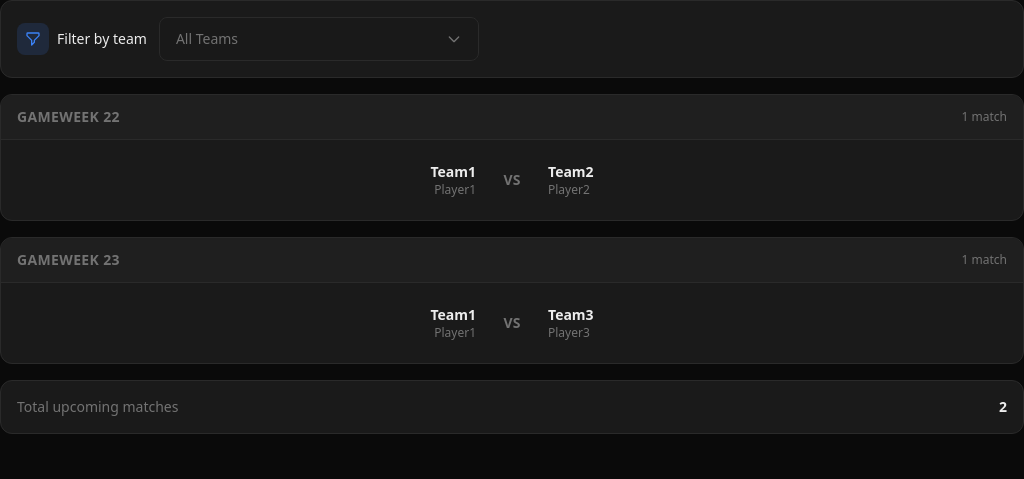
Test: UpcomingFixtures (expanded) › shows team-specific info in footer when filtered
Click the button with aria-label "Select team filter": (207, 38) [159,17,479,61]
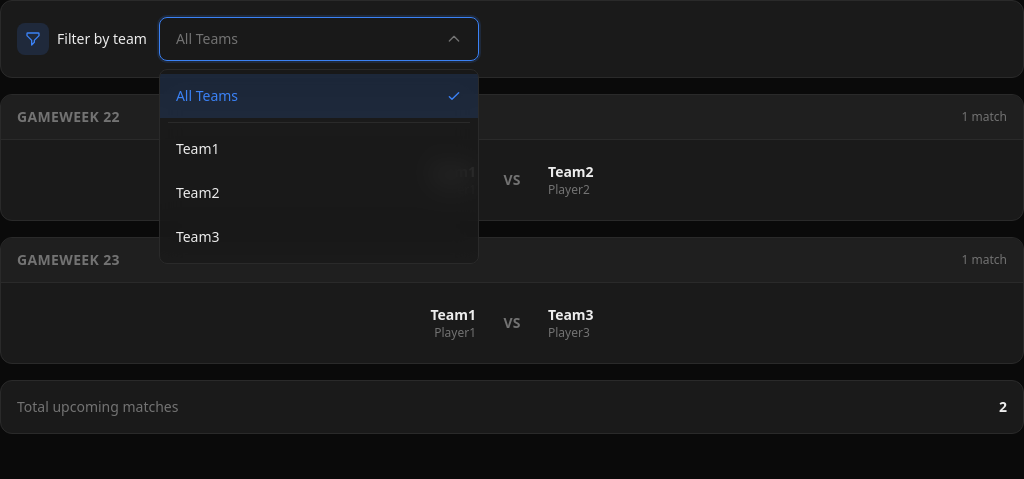
Click the option "Team1": (198, 148) [160,127,478,171]
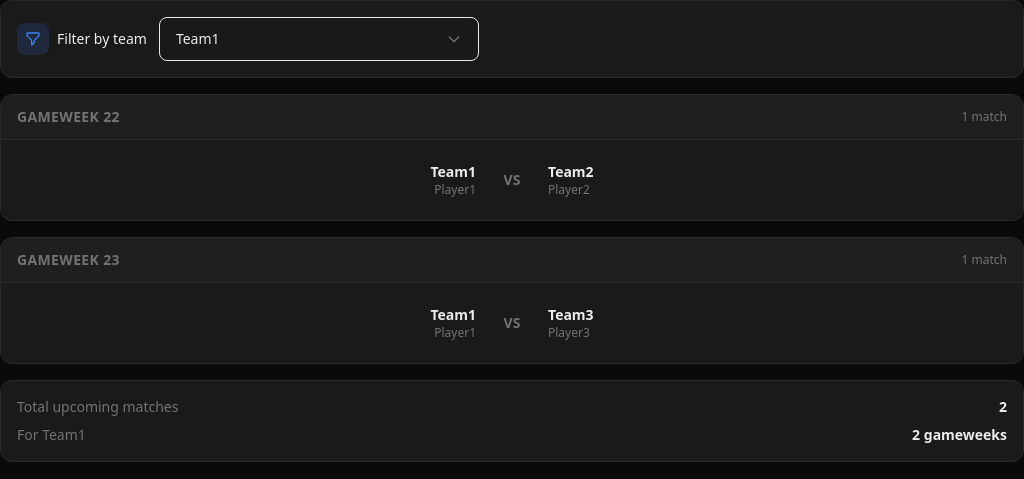
Check: the text "For Team1" is shown, box [17,425,86,445]
